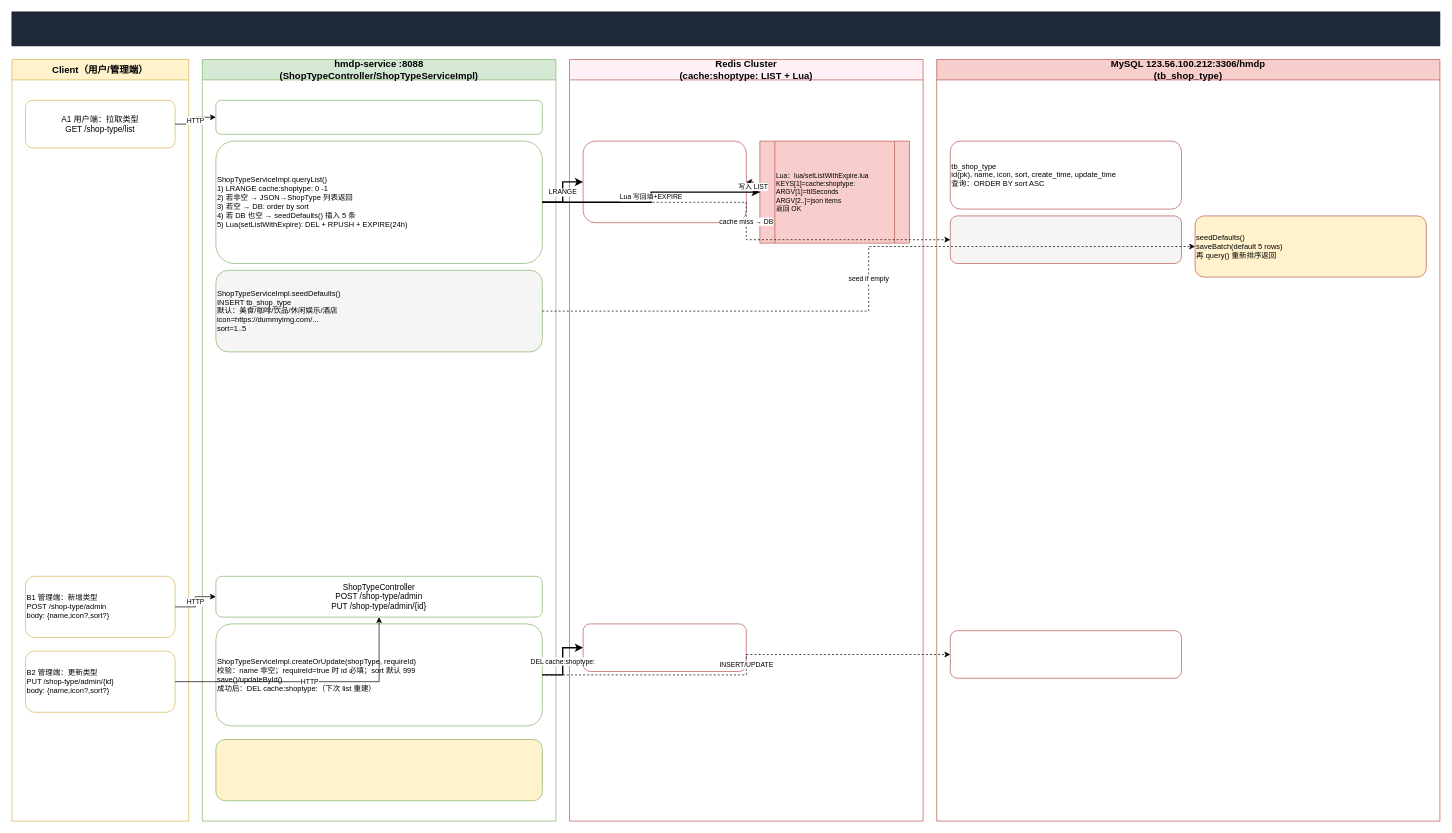
The diagram is 1452 pixels wide and 833 high, and some of its shapes have lost their labels. Each missing label, with the centre of its shape:
"DEL cache:shoptype: （管理端写入后清理）" goes at point (664, 647).
"LIST cache:shoptype: element=ShopType JSON TTL=1440m(24h) （无空值缓存）" goes at point (664, 181).
"ShopTypeController GET /shop-type/list" goes at point (378, 117).
"SQL(写入) INSERT/UPDATE tb_shop_type （管理端接口）" goes at point (1066, 654).
"SQL(查询) SELECT * FROM tb_shop_type ORDER BY sort ASC" goes at point (1066, 239).
"WHY：使用 Lua 原子写 List+Expire 避免两条命令之间崩溃造成“永不过期脏缓存” 脚本：DEL → RPUSH... → EXPIRE" goes at point (378, 770).
"店铺类型（ShopType）按代码实现：List缓存 + Lua原子写入/过期 + 管理端增改清缓存（严格对照当前代码）" goes at point (725, 28).
